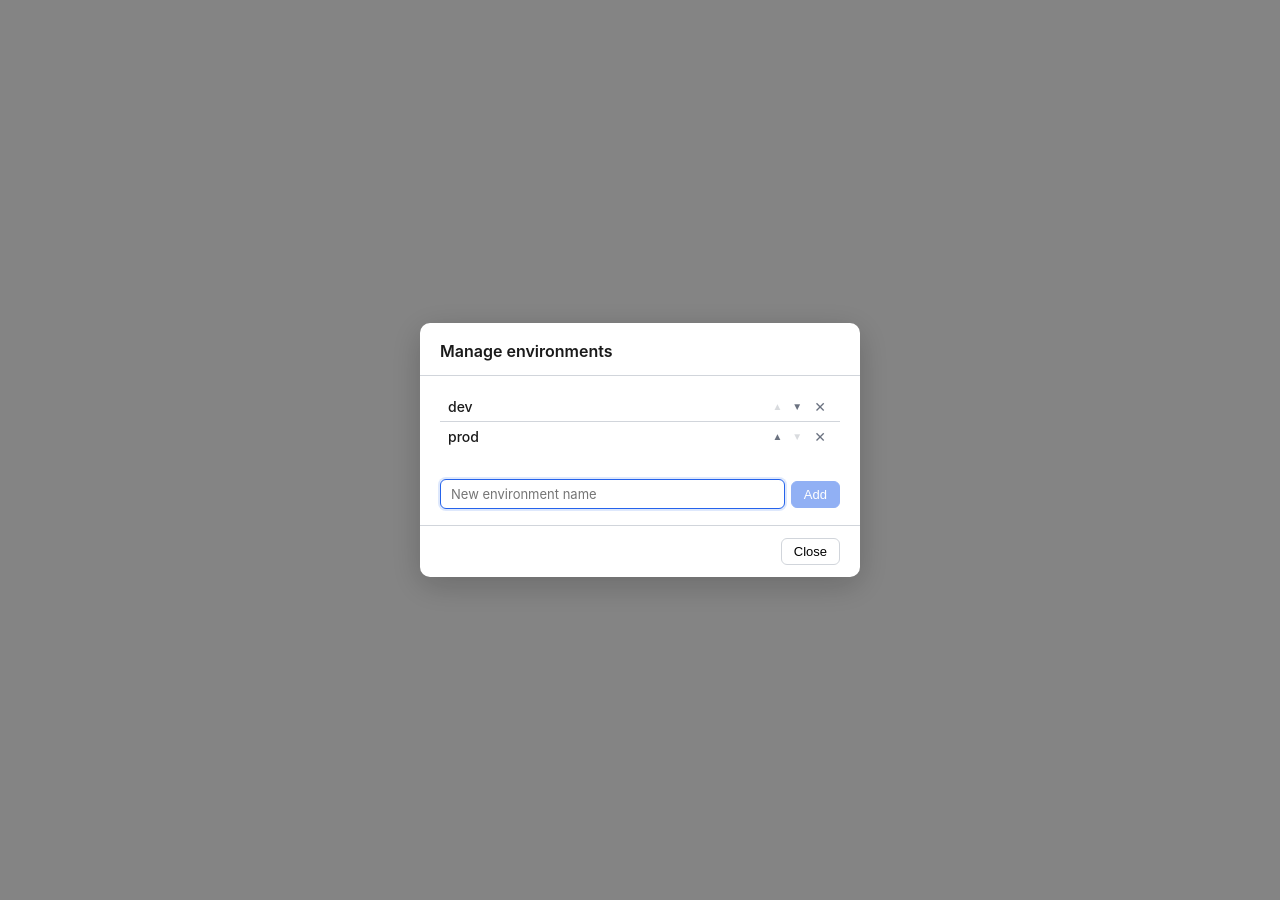
Test: ManageEnvironmentsDialog › Add button enabled when name is valid
Type "staging" into the field with placeholder "New environment name". click: (612, 494)
box: [440,479,785,509]
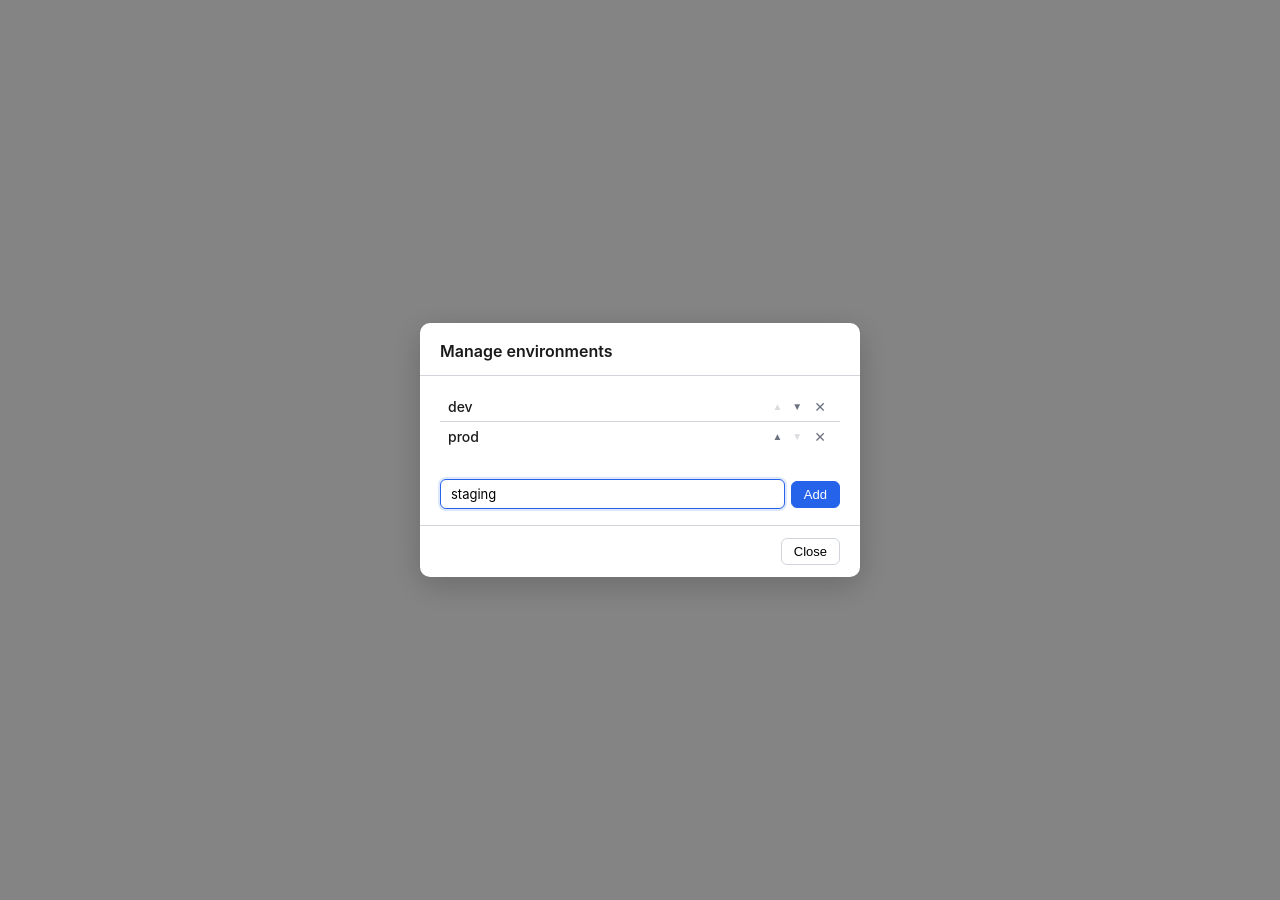
Result: the button "Add" is enabled at [791,480,840,508]
